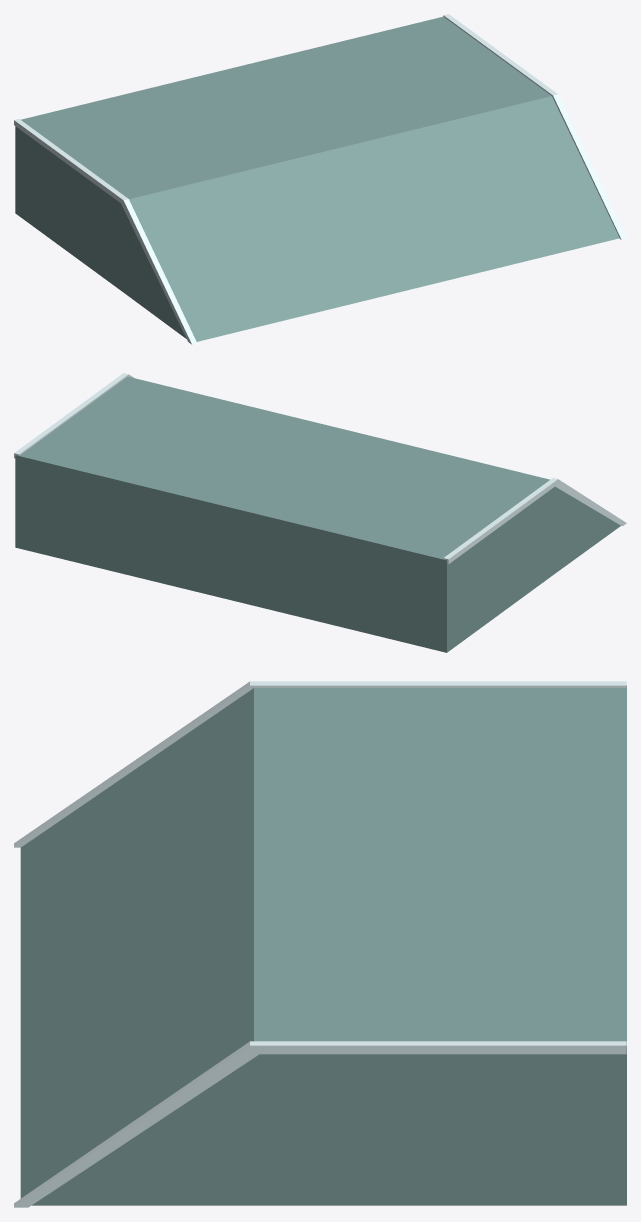
The model's file is slope floor.fbx.
The picture shows the model from 3 angles, top to bottom: view 1: azimuth 30°, elevation 25°; view 2: azimuth 150°, elevation 25°; view 3: azimuth 270°, elevation 25°; orthographic projection. The views are drawn at different scales.
Parts seen in each view (by area): view 1: 立方体.003; view 2: 立方体.003; view 3: 立方体.003.
Boxes of the visible parts, <box> form: 立方体.003: <box>14,14,626,344</box>; 立方体.003: <box>14,373,626,652</box>; 立方体.003: <box>14,681,626,1207</box>.
Size of the model in its own units: 896 by 186 by 637.
